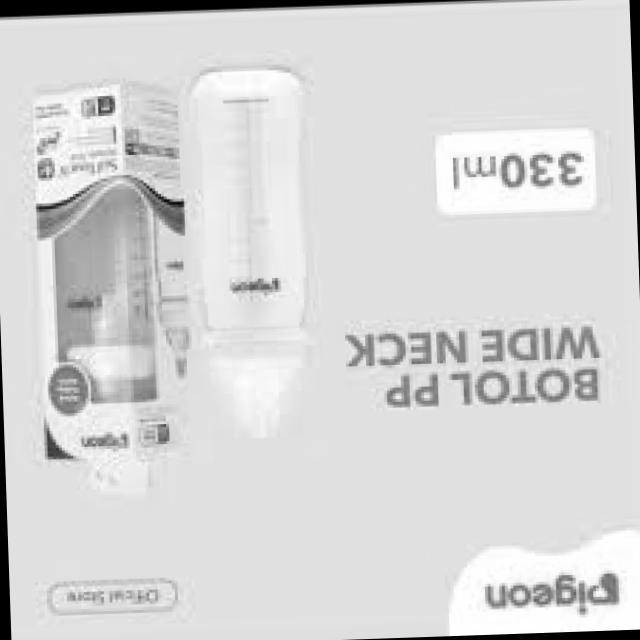good: (157, 49, 322, 436)
